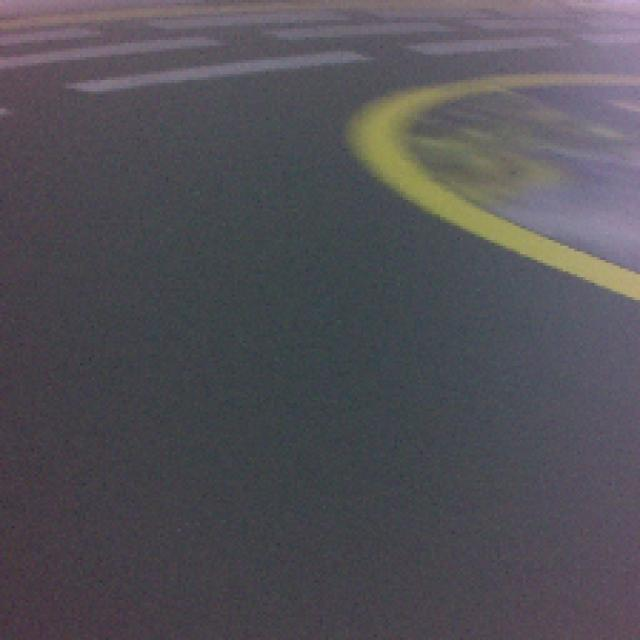Road: (0, 448, 640, 638)
